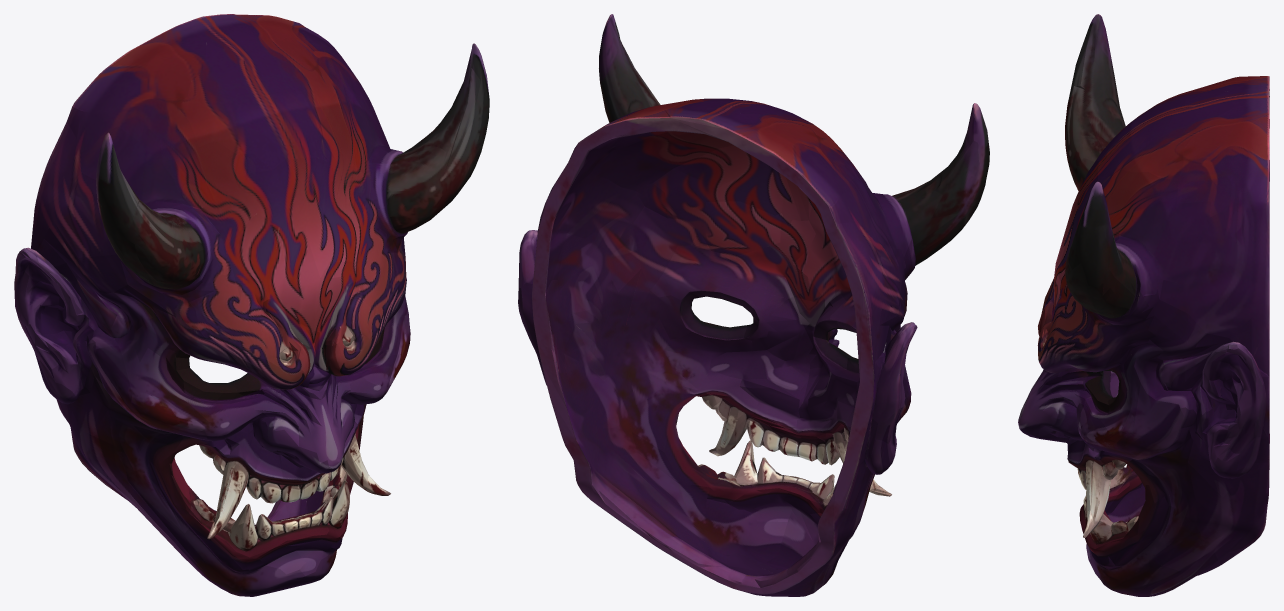
The model's file is BOSS5_3_source_user.glb.
3 renders of one model, left to right at view 1: azimuth 30°, elevation 25°; view 2: azimuth 150°, elevation 25°; view 3: azimuth 270°, elevation 25°, orthographic. The views are drawn at different scales.
Visible parts, largest first — view 1: Mesh_0; view 2: Mesh_0; view 3: Mesh_0.
Part boxes in pixels (x1,y1,x2,y2): Mesh_0: [14, 14, 489, 596]; Mesh_0: [518, 14, 989, 596]; Mesh_0: [1018, 14, 1269, 596].
Bounding box in the file's own units: 1.58 × 2 × 0.9311.
Materials: 1 (1 with a texture image).
